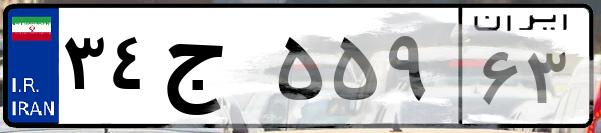3: (57, 26, 110, 100), (525, 38, 570, 115)
4: (110, 28, 158, 98)
5: (270, 28, 330, 110), (330, 28, 385, 110)
6: (475, 38, 525, 113)
9: (385, 28, 445, 110)
ج: (158, 20, 270, 120)
